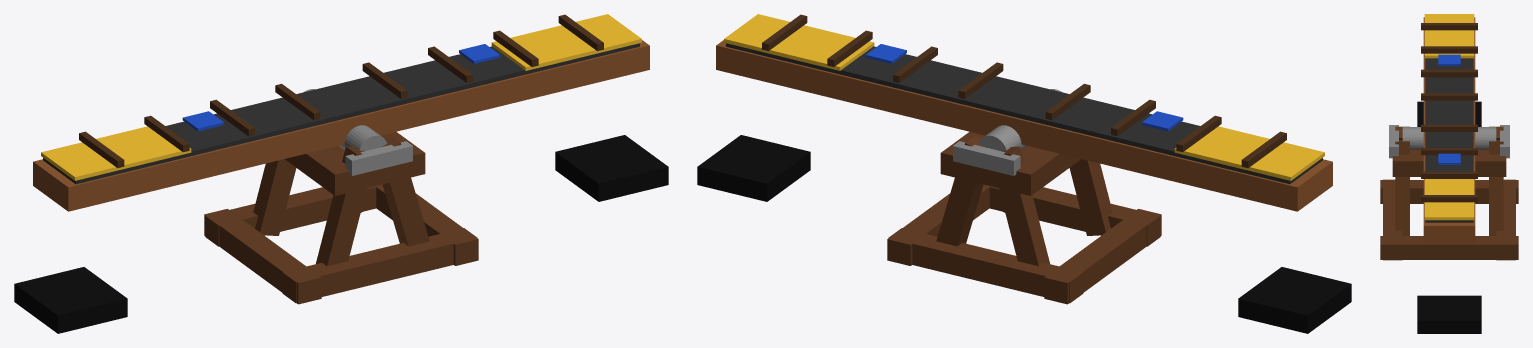
File: dog_teeter_totter.obj
3 views of the same model, side by side, from view 1: azimuth 30°, elevation 25°; view 2: azimuth 150°, elevation 25°; view 3: azimuth 270°, elevation 25° (orthographic). The views are drawn at different scales.
Parts seen in each view (by area): view 1: animated_plank_main, animated_plank_grip_surface, right_low_stop_pad, left_low_stop_pad, base_foot_back, base_cross_left, contact_zone_left, contact_zone_right, top_cradle, base_foot_front, support_leg_left_z0.38, support_leg_left_z-0.38 (+14 smaller); view 2: animated_plank_main, animated_plank_grip_surface, right_low_stop_pad, left_low_stop_pad, base_foot_front, base_cross_left, contact_zone_left, contact_zone_right, top_cradle, base_foot_back, support_leg_left_z-0.38, support_leg_left_z0.38 (+14 smaller); view 3: animated_plank_grip_surface, right_low_stop_pad, base_cross_right, animated_plank_main, contact_zone_right, contact_zone_left, top_cradle, base_foot_front, base_foot_back, support_leg_right_z-0.38, support_leg_right_z0.38, base_cross_left (+14 smaller).
Boxes of the visible parts, x1,y1,x2,y2 form: animated_plank_main: (33,40,649,211); animated_plank_grip_surface: (43,43,639,184); right_low_stop_pad: (555,135,668,201); left_low_stop_pad: (14,267,127,333); base_foot_back: (282,228,477,303); base_cross_left: (204,209,321,304); contact_zone_left: (41,126,191,180); contact_zone_right: (491,14,641,70); top_cradle: (285,131,425,195); base_foot_front: (205,185,381,246); support_leg_left_z0.38: (316,146,366,266); support_leg_left_z-0.38: (253,159,296,235); animated_plank_main: (716,40,1332,211); animated_plank_grip_surface: (726,43,1322,184); right_low_stop_pad: (697,135,810,201); left_low_stop_pad: (1238,267,1351,333); base_foot_front: (888,228,1083,303); base_cross_left: (1044,209,1161,304); contact_zone_left: (1174,126,1324,180); contact_zone_right: (724,14,874,70); top_cradle: (940,131,1080,195); base_foot_back: (985,185,1160,246); support_leg_left_z-0.38: (999,146,1049,266); support_leg_left_z0.38: (1069,159,1112,235); animated_plank_grip_surface: (1425,58,1473,222); right_low_stop_pad: (1417,295,1481,333); base_cross_right: (1380,236,1518,259); animated_plank_main: (1423,17,1475,243); contact_zone_right: (1424,179,1474,220); contact_zone_left: (1424,14,1474,58); top_cradle: (1392,149,1506,176); base_foot_front: (1496,179,1515,260); base_foot_back: (1383,179,1402,260); support_leg_right_z-0.38: (1489,140,1503,235); support_leg_right_z0.38: (1395,140,1409,235); base_cross_left: (1380,180,1518,203).
Size of the model in its own units: 4.2 by 1.06 by 1.12.
